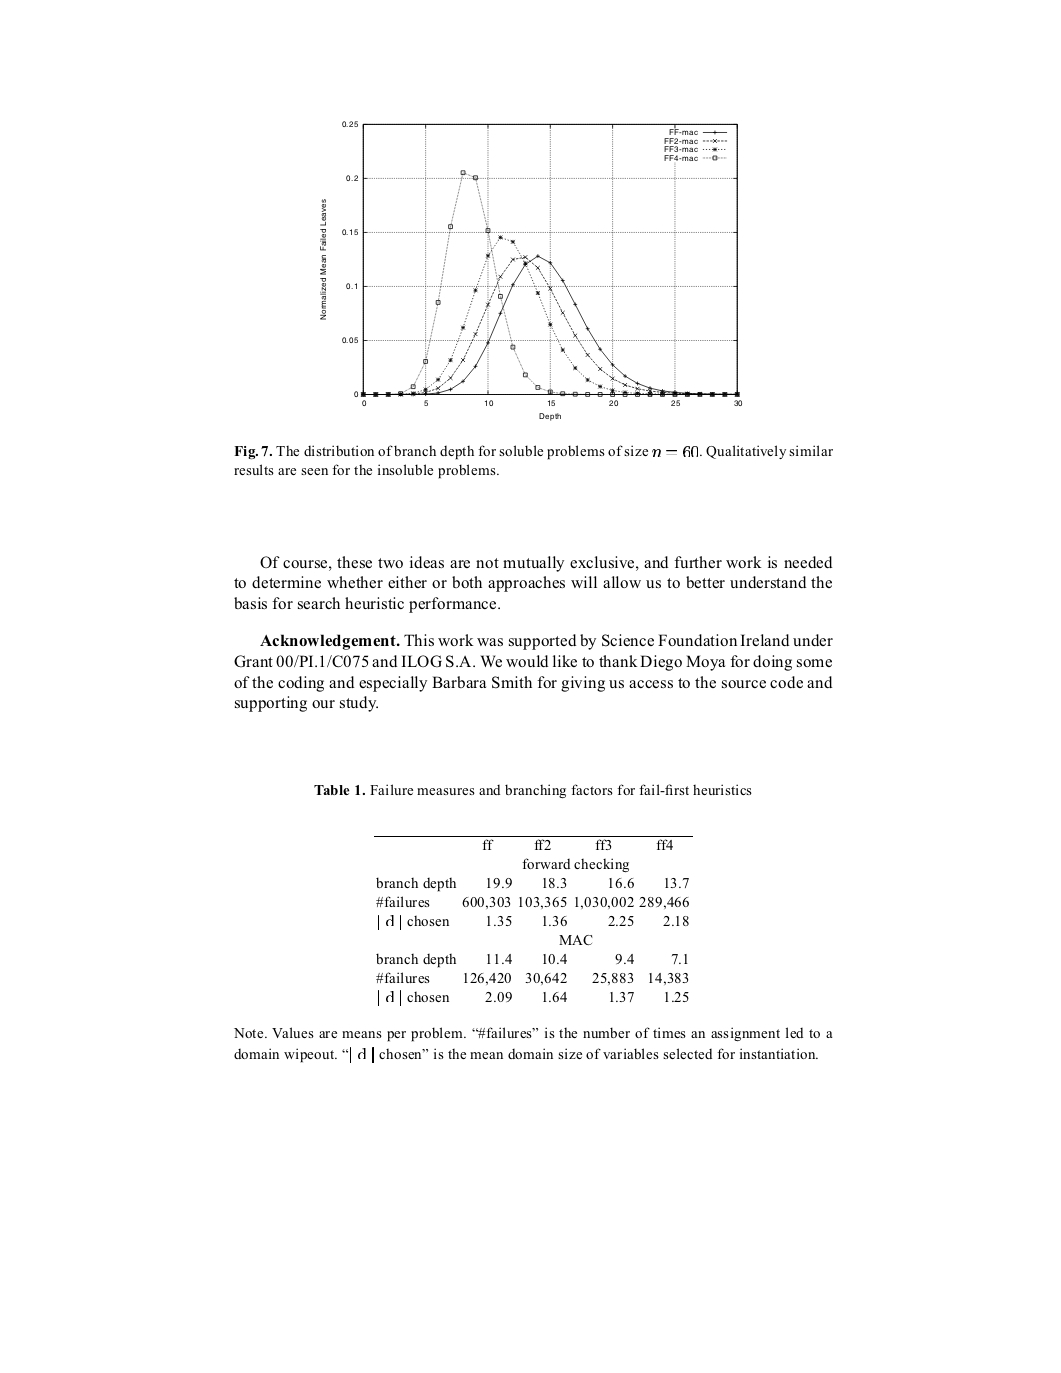Table: (374, 836, 692, 1005)
figure: (320, 121, 742, 420)
